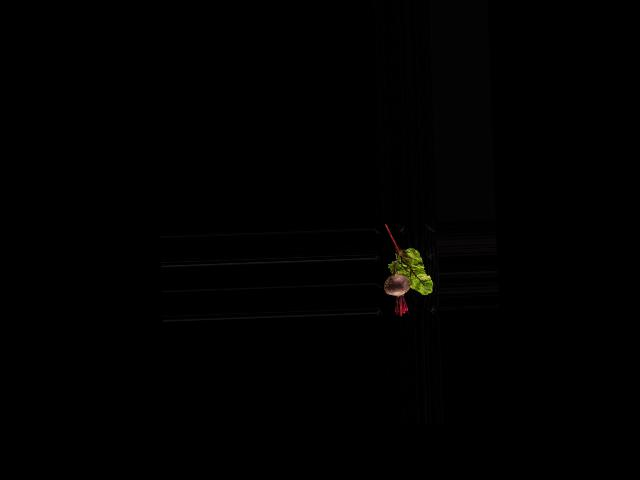beet: (382, 249, 411, 317)
